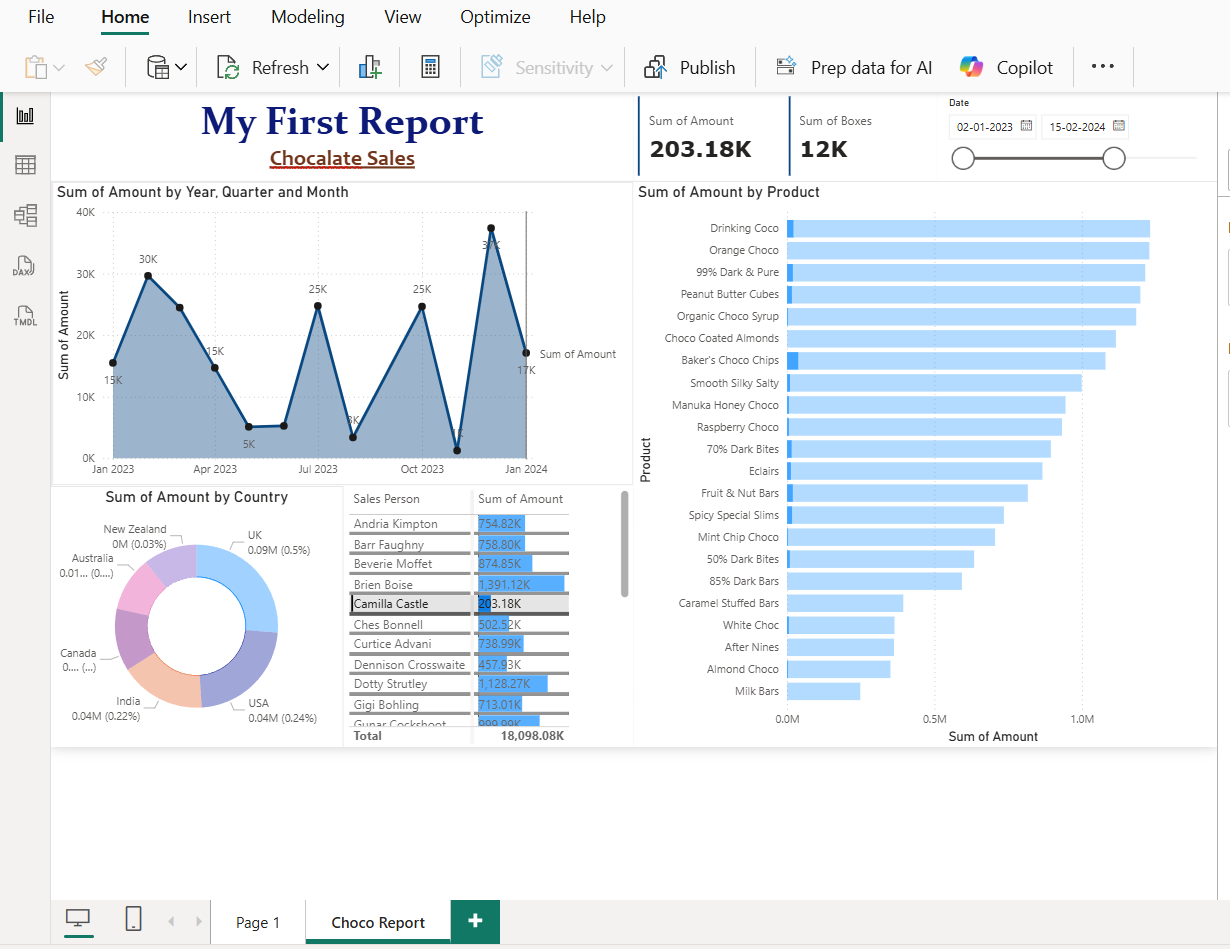

What the dashboard file says about the page in this screenshot:
{"tool":"powerbi","page":{"name":"Choco Report","canvas":[1280,720],"ordinal":1},"visuals":[{"type":"lineChart","fields":{"Category":["data.Date.Variation.Date Hierarchy.Year","data.Date.Variation.Date Hierarchy.Quarter","data.Date.Variation.Date Hierarchy.Month","data.Date.Variation.Date Hierarchy.Day"],"Y":["data.Amount"]},"box":[1.4,98.8,638.1,333.4],"z":0},{"type":"donutChart","fields":{"Category":["data.Country"],"Y":["data.Amount"]},"box":[0,433.6,319.7,286.8],"z":1000},{"type":"tableEx","fields":{"Values":["data.Sales Person","data.Amount"]},"box":[321.1,432.2,318.4,288.2],"z":2000},{"type":"clusteredBarChart","fields":{"Category":["data.Product"],"Y":["data.Amount"]},"box":[639.5,98.8,640.8,621.6],"z":3000},{"type":"cardVisual","fields":{"Data":["data.Amount","data.Boxes"]},"box":[639.5,0,333.4,97.4],"z":4000},{"type":"slicer","fields":{"Values":["data.Date"]},"box":[972.9,0,307.4,97.4],"z":5000},{"type":"textbox","box":[0,0,639.5,97.4],"z":6000}]}

Visuals, with their boxes on the page's 1280x720 design canvas (x1, y1, x2, y2). These are canvas units, not pixel positions in the 1230x949 screenshot, which may show the page scaled, cropped or inside an application window:
lineChart - data.Date.Variation.Date Hierarchy.Year x data.Date.Variation.Date Hierarchy.Quarter: bbox(1, 99, 640, 432)
donutChart - data.Country x data.Amount: bbox(0, 434, 320, 720)
tableEx - data.Sales Person x data.Amount: bbox(321, 432, 640, 720)
clusteredBarChart - data.Product x data.Amount: bbox(640, 99, 1280, 720)
cardVisual - data.Amount x data.Boxes: bbox(640, 0, 973, 97)
slicer - data.Date: bbox(973, 0, 1280, 97)
textbox: bbox(0, 0, 640, 97)
